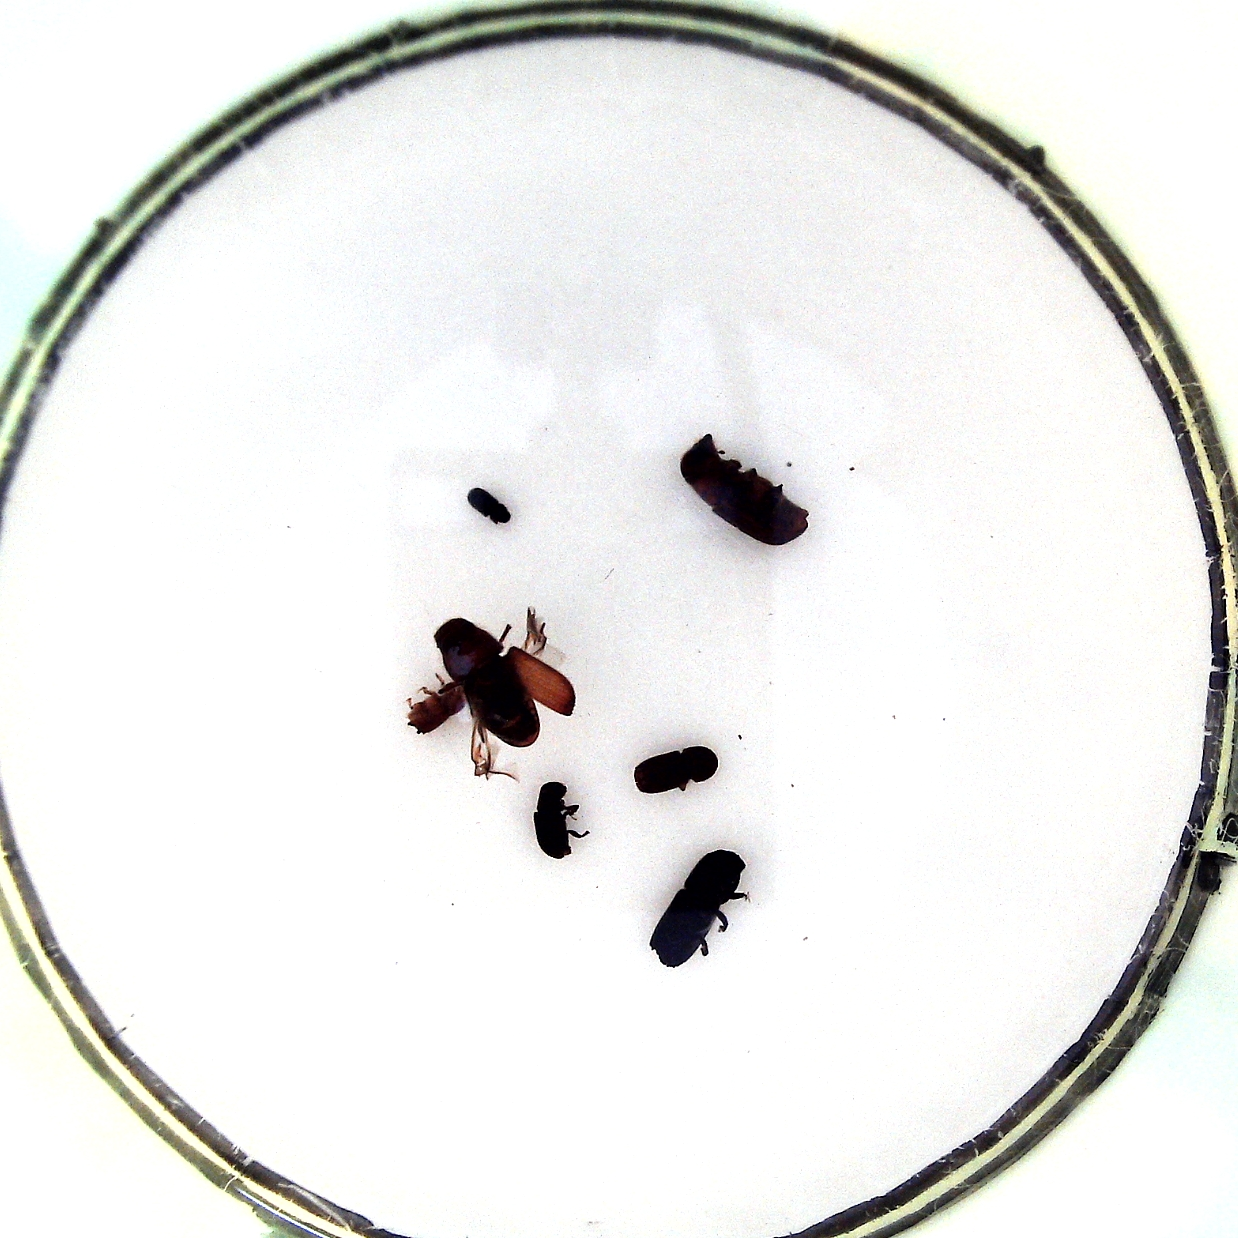Boerner: (645, 847, 753, 970)
Leconte: (438, 612, 576, 771), (678, 435, 817, 546)
Linnaeus: (628, 741, 723, 792)
acuminatus: (409, 673, 463, 740)
armandi: (529, 771, 594, 868)
coleoptera: (460, 480, 517, 532)
